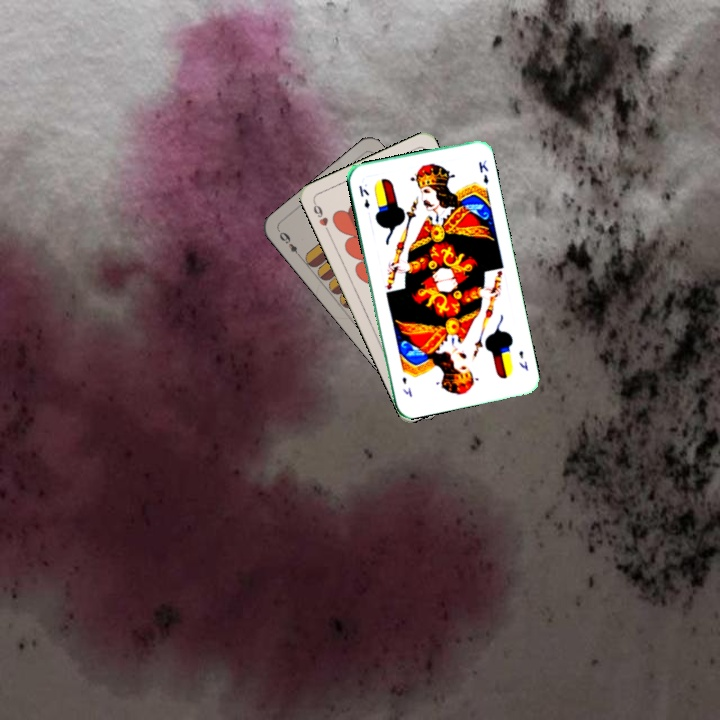E9: (274, 227, 304, 261)
EK: (355, 181, 372, 211), (515, 346, 531, 373)
H9: (309, 198, 332, 236)
